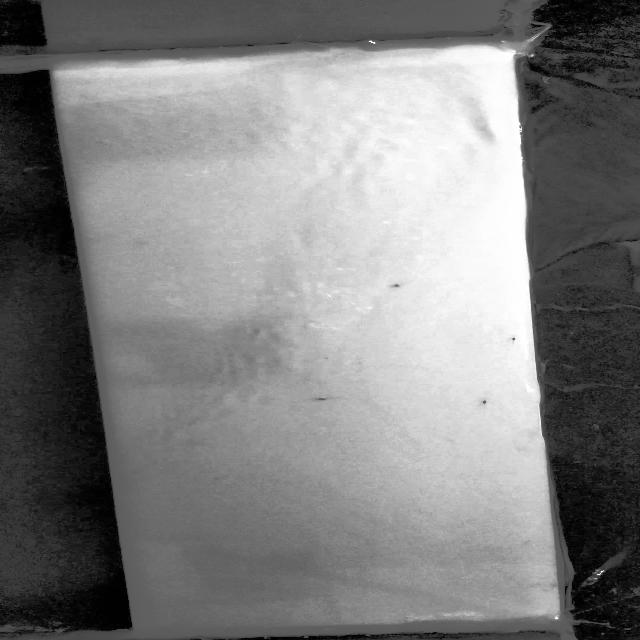shrimp: (302, 390, 343, 412), (469, 396, 502, 409), (498, 332, 528, 346), (376, 280, 408, 291)
